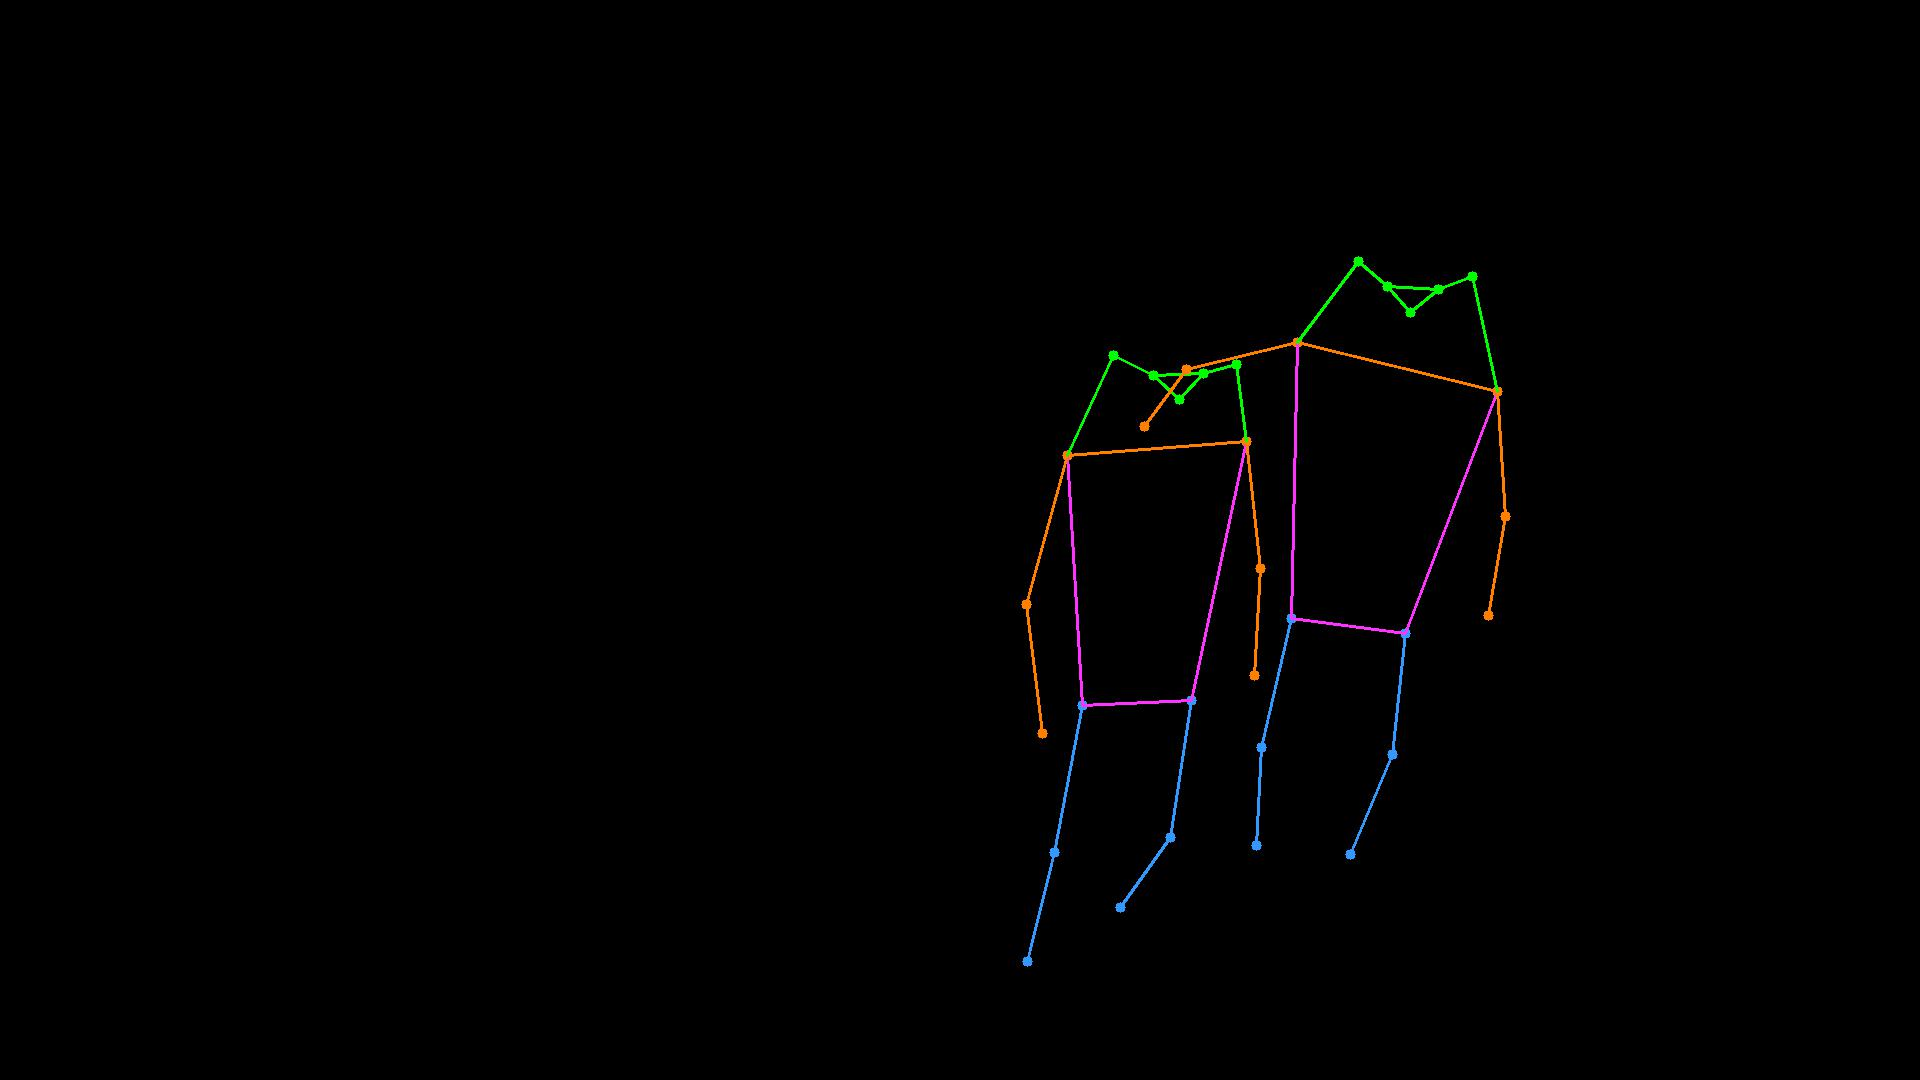normal: (938, 203, 1567, 1007)
